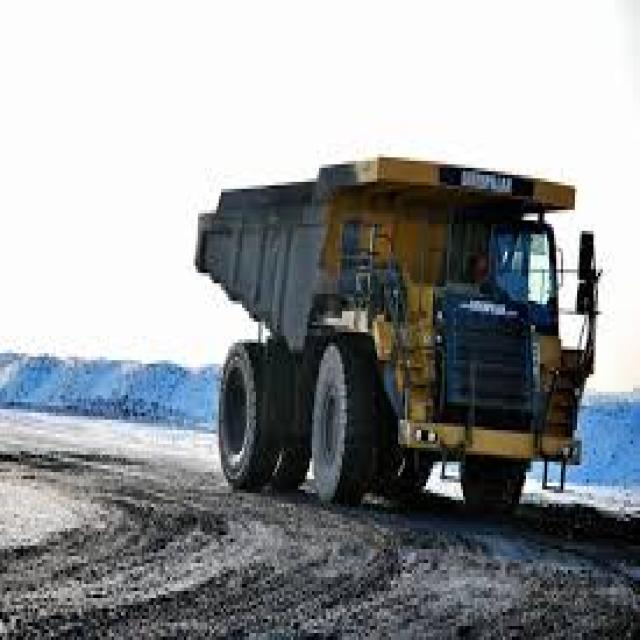dump_truck: (180, 140, 614, 535)
